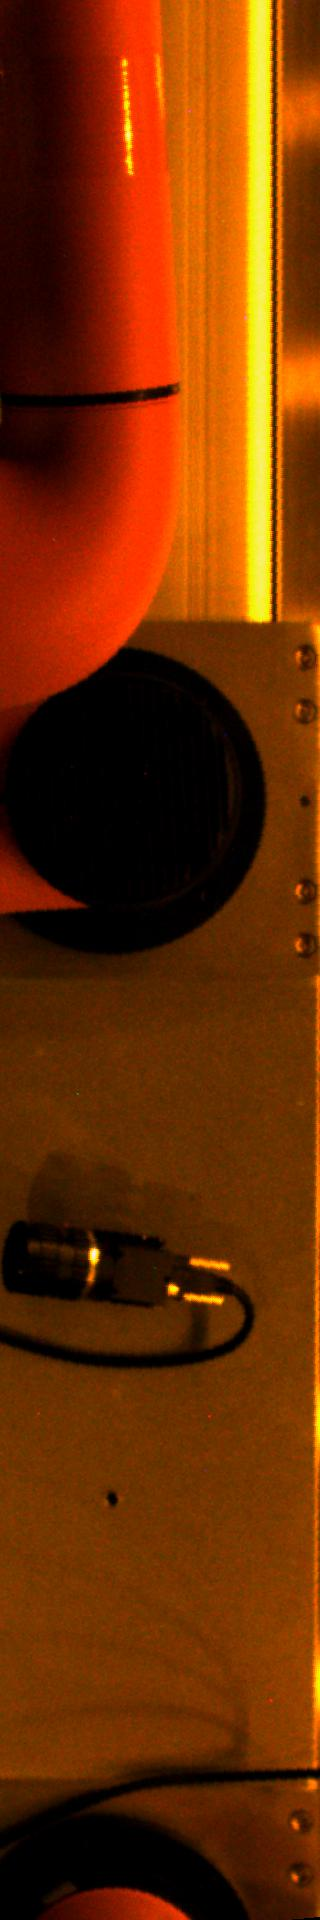keyPoint_2: (97, 1483, 128, 1513)
